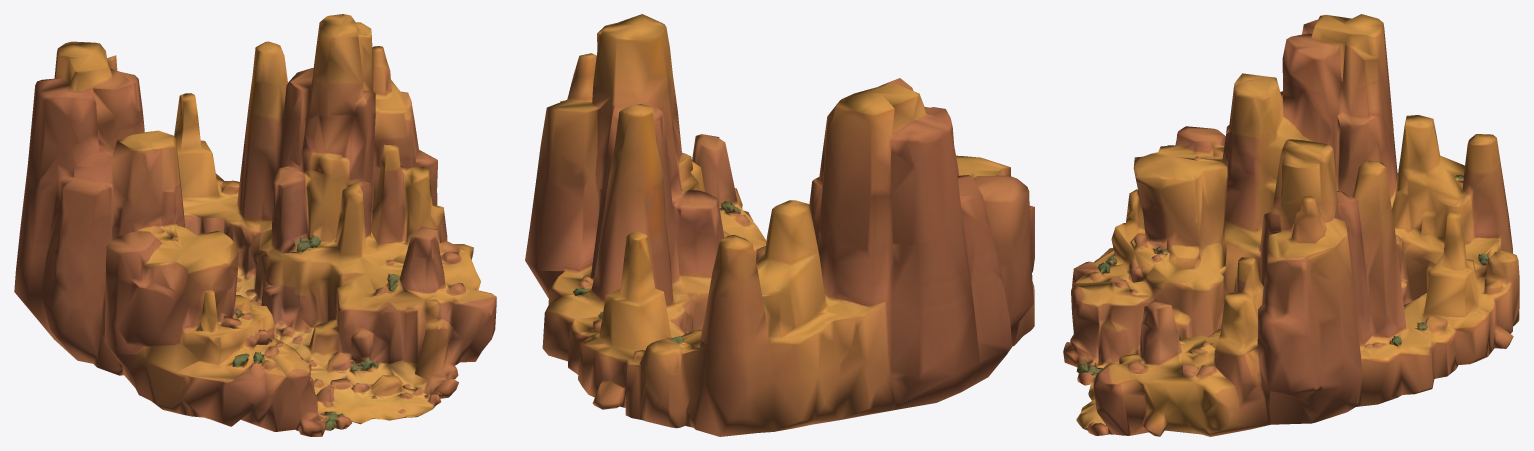
File: canyon-two.glb
The picture shows the model from 3 angles, left to right: view 1: azimuth 30°, elevation 25°; view 2: azimuth 150°, elevation 25°; view 3: azimuth 270°, elevation 25°; orthographic projection. The views are drawn at different scales.
Visible parts, largest first — view 1: tripo_node_94dcc20e-c4d1-45ed-b632-418559791028; view 2: tripo_node_94dcc20e-c4d1-45ed-b632-418559791028; view 3: tripo_node_94dcc20e-c4d1-45ed-b632-418559791028.
Part boxes in pixels (<box>): tripo_node_94dcc20e-c4d1-45ed-b632-418559791028: <box>14,14,496,436</box>; tripo_node_94dcc20e-c4d1-45ed-b632-418559791028: <box>525,14,1034,436</box>; tripo_node_94dcc20e-c4d1-45ed-b632-418559791028: <box>1063,14,1519,436</box>.
Bounding box in the file's own units: 0.9713 × 0.7239 × 0.9789.
1 material, 1 textured.
